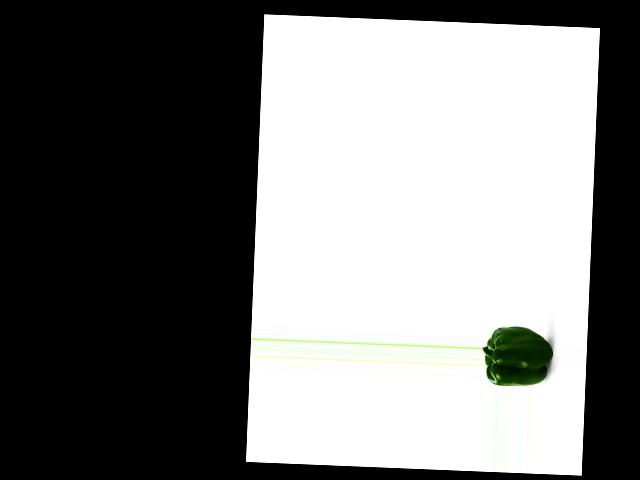bell_pepper: (482, 324, 551, 388)
